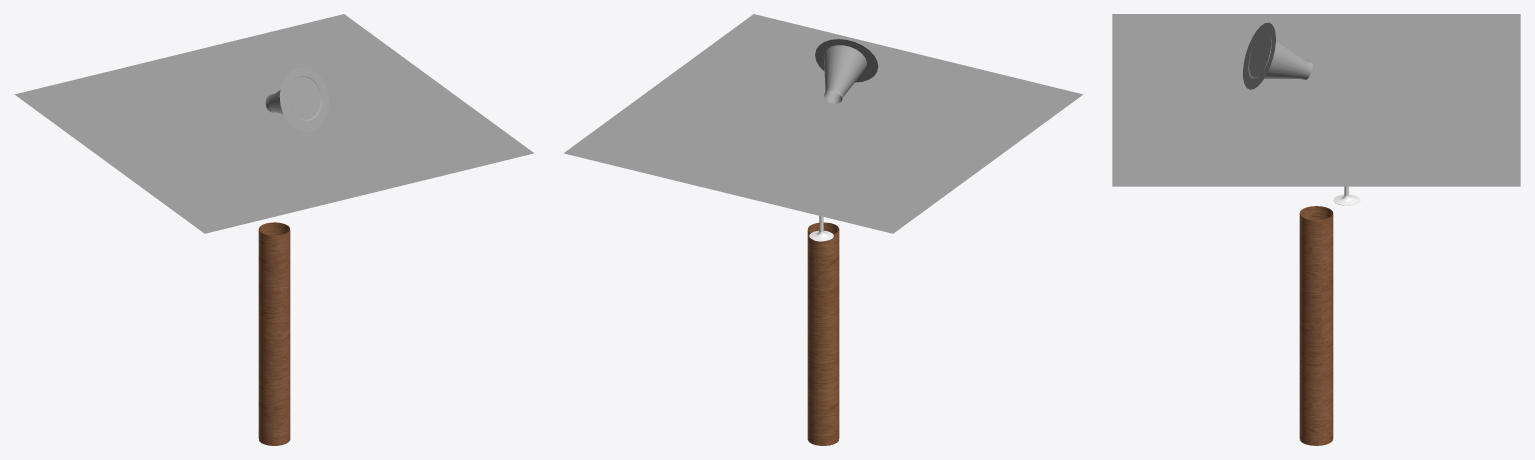
The model's file is water.fbx.
3 views of the same model, side by side, from view 1: azimuth 30°, elevation 25°; view 2: azimuth 150°, elevation 25°; view 3: azimuth 270°, elevation 25° (orthographic). The views are drawn at different scales.
Visible parts, largest first — view 1: TABLE_AND_CLOTH:geo, TABLE_AND_CLOTH:table_geo, pDisc1; view 2: TABLE_AND_CLOTH:geo, TABLE_AND_CLOTH:table_geo, pCylinder3, pDisc1; view 3: TABLE_AND_CLOTH:geo, TABLE_AND_CLOTH:table_geo, pDisc1, pCylinder3.
Part boxes in pixels (x1=…): TABLE_AND_CLOTH:geo: x1=14, y1=14, x2=533, y2=233; TABLE_AND_CLOTH:table_geo: x1=258, y1=222, x2=290, y2=445; pDisc1: x1=279, y1=67, x2=328, y2=131; TABLE_AND_CLOTH:geo: x1=564, y1=14, x2=1083, y2=233; TABLE_AND_CLOTH:table_geo: x1=807, y1=222, x2=839, y2=445; pCylinder3: x1=823, y1=45, x2=866, y2=103; pDisc1: x1=815, y1=39, x2=878, y2=82; TABLE_AND_CLOTH:geo: x1=1112, y1=14, x2=1520, y2=186; TABLE_AND_CLOTH:table_geo: x1=1299, y1=206, x2=1333, y2=445; pDisc1: x1=1243, y1=22, x2=1275, y2=89; pCylinder3: x1=1248, y1=33, x2=1312, y2=80.
Size of the model in its own units: 134 by 134 by 150.
Materials: 4 (1 with a texture image).
